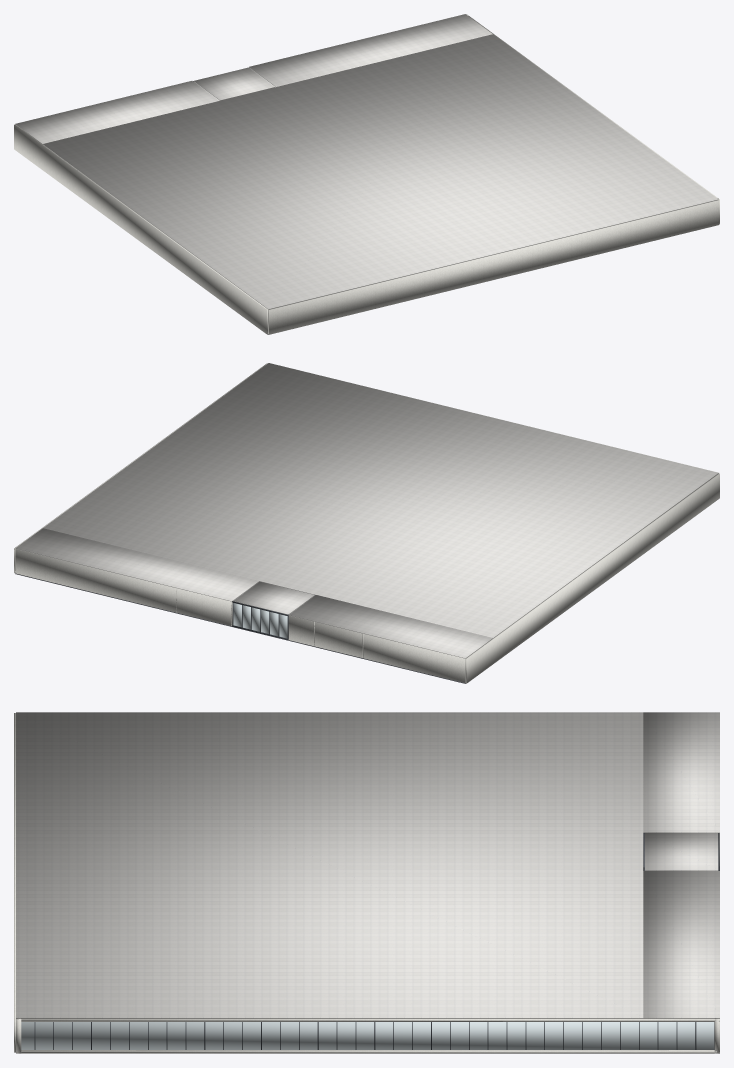
Rendered from office.glb.
3 views of the same model, one above another, from view 1: azimuth 30°, elevation 25°; view 2: azimuth 150°, elevation 25°; view 3: azimuth 270°, elevation 25° (orthographic). The views are drawn at different scales.
Parts seen in each view (by area): view 1: Office; view 2: Office, Office glass; view 3: Office, Office glass.
Boxes of the visible parts, x1,y1,x2,y2 form: Office: (14,14,719,334); Office: (14,363,719,683); Office glass: (233,603,287,638); Office: (14,712,719,1053); Office glass: (21,1022,714,1049).
Bounding box in the file's own units: 69.3 × 3.78 × 67.29.
71 materials, 10 textured.
